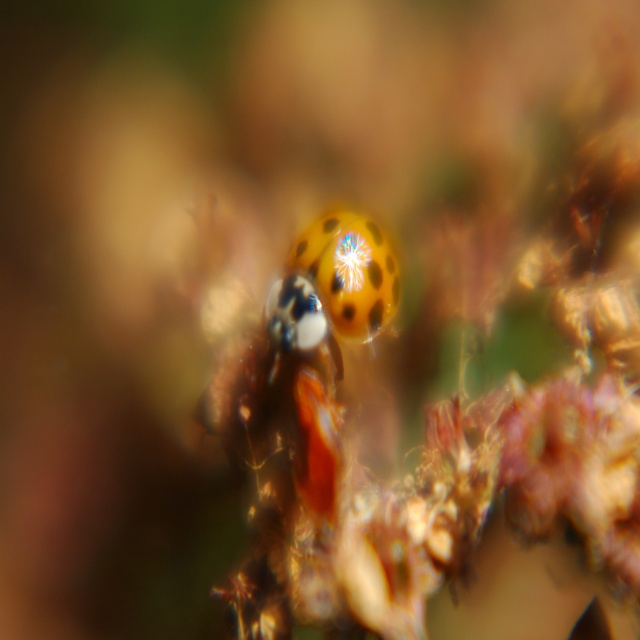Ladybug: (263, 204, 403, 388)
